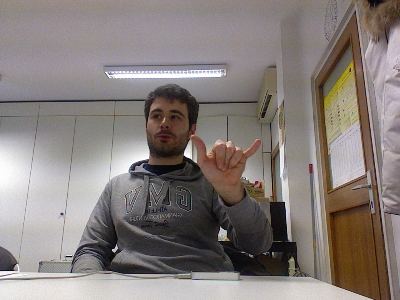六六六: (188, 133, 262, 188)
